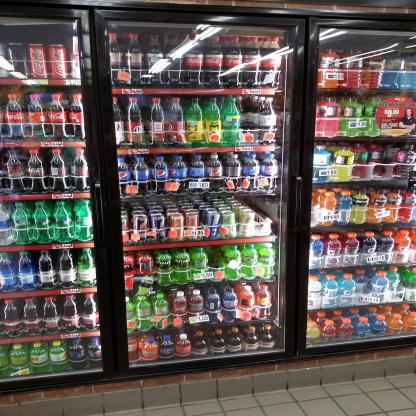Void: (12, 28, 67, 41), (207, 248, 222, 275), (257, 201, 269, 231)
